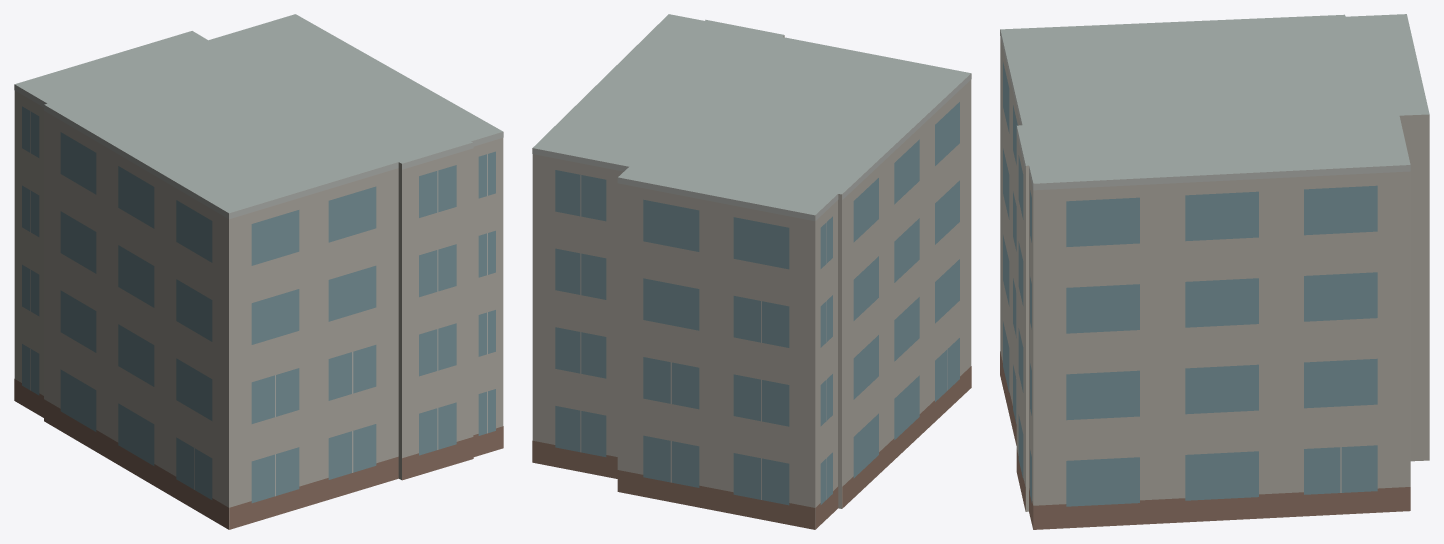
Rendered from survey-upis-32653386.glb.
The picture shows the model from 3 angles, left to right: view 1: azimuth 30°, elevation 25°; view 2: azimuth 150°, elevation 25°; view 3: azimuth 270°, elevation 25°; orthographic projection. The views are drawn at different scales.
Visible parts, largest first — view 1: survey-upis-32653386.tmp; view 2: survey-upis-32653386.tmp; view 3: survey-upis-32653386.tmp.
Boxes of the visible parts, x1=… form: survey-upis-32653386.tmp: x1=14, y1=14, x2=503, y2=529; survey-upis-32653386.tmp: x1=532, y1=14, x2=971, y2=529; survey-upis-32653386.tmp: x1=1000, y1=14, x2=1429, y2=529.
Size of the model in its own units: 13.62 by 12.94 by 14.56.
